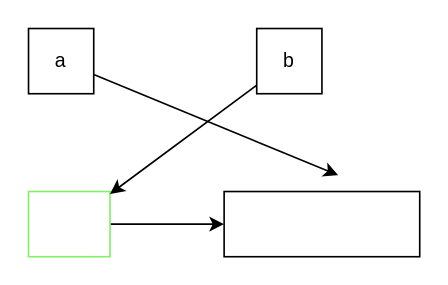
Some shapes in this 448 by 285 pixel diagram are drawn without their labels. The shapes that lost their labels are listed below. From the top down, each one's centre as x and y in pixels, then its label:
At point (68, 223): "n:1 x:地址".
At point (321, 223): "n:2".
